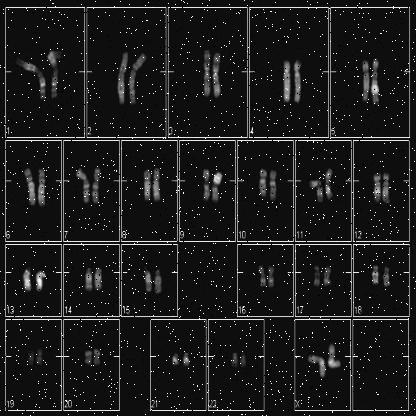1: (14, 56, 46, 102), (47, 48, 61, 100)
10: (268, 168, 278, 204), (258, 166, 268, 197)
11: (308, 178, 324, 204), (324, 167, 334, 202)
12: (382, 170, 391, 208), (372, 172, 382, 205)
13: (20, 265, 32, 293), (34, 271, 46, 294)
14: (93, 265, 103, 292), (84, 266, 93, 294)
15: (143, 265, 153, 293), (152, 268, 162, 296)
16: (257, 262, 266, 288), (266, 263, 275, 289)
17: (322, 264, 333, 288), (312, 262, 320, 288)
18: (381, 264, 391, 290), (372, 264, 379, 286)
19: (36, 346, 43, 367), (27, 348, 34, 368)
2: (128, 52, 147, 106), (118, 50, 128, 106)
20: (92, 346, 101, 367), (84, 348, 92, 367)
21: (170, 350, 180, 368), (182, 351, 191, 369)
22: (239, 350, 247, 370), (231, 350, 238, 370)
3: (210, 51, 222, 100), (202, 47, 211, 98)
4: (292, 60, 303, 104), (282, 59, 292, 104)
5: (371, 56, 381, 107), (361, 58, 370, 104)
6: (22, 166, 36, 208), (36, 166, 47, 208)
7: (74, 166, 91, 206), (90, 166, 102, 206)
8: (152, 166, 162, 204), (144, 168, 152, 204)
9: (211, 170, 223, 206), (201, 167, 210, 202)
X: (306, 353, 326, 381), (326, 341, 342, 370)
